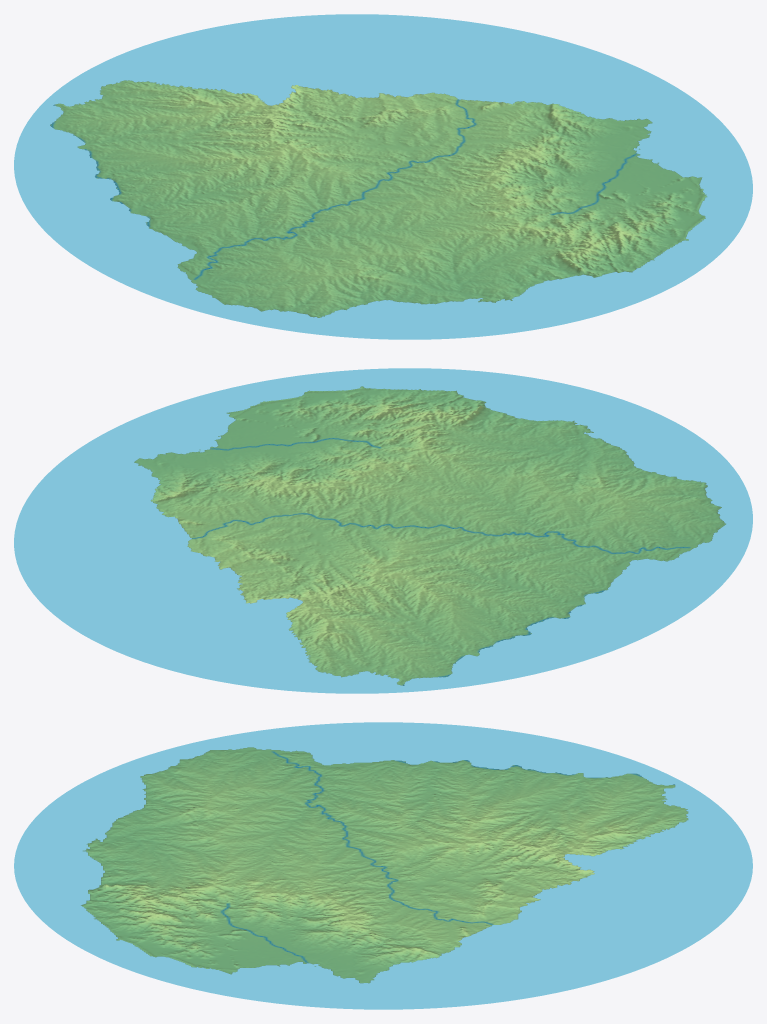
Rendered from URY-terrain.glb.
The picture shows the model from 3 angles, top to bottom: view 1: azimuth 30°, elevation 25°; view 2: azimuth 150°, elevation 25°; view 3: azimuth 270°, elevation 25°; orthographic projection. The views are drawn at different scales.
Parts seen in each view (by area): view 1: Relevo com hidrografia; view 2: Relevo com hidrografia; view 3: Relevo com hidrografia.
Boxes of the visible parts, left/top/right/bottom form: Relevo com hidrografia: left=14, top=14, right=752, bottom=339; Relevo com hidrografia: left=14, top=368, right=752, bottom=693; Relevo com hidrografia: left=14, top=722, right=752, bottom=1009.
Size of the model in its own units: 1.79 by 0.0154 by 1.95.
2 materials, 1 textured.
